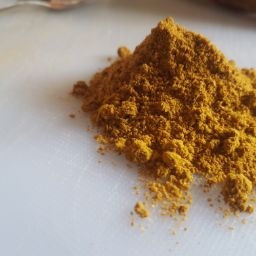Curry powder: (75, 11, 256, 239), (45, 59, 256, 214), (61, 70, 256, 232), (119, 14, 248, 124), (133, 84, 249, 201)
